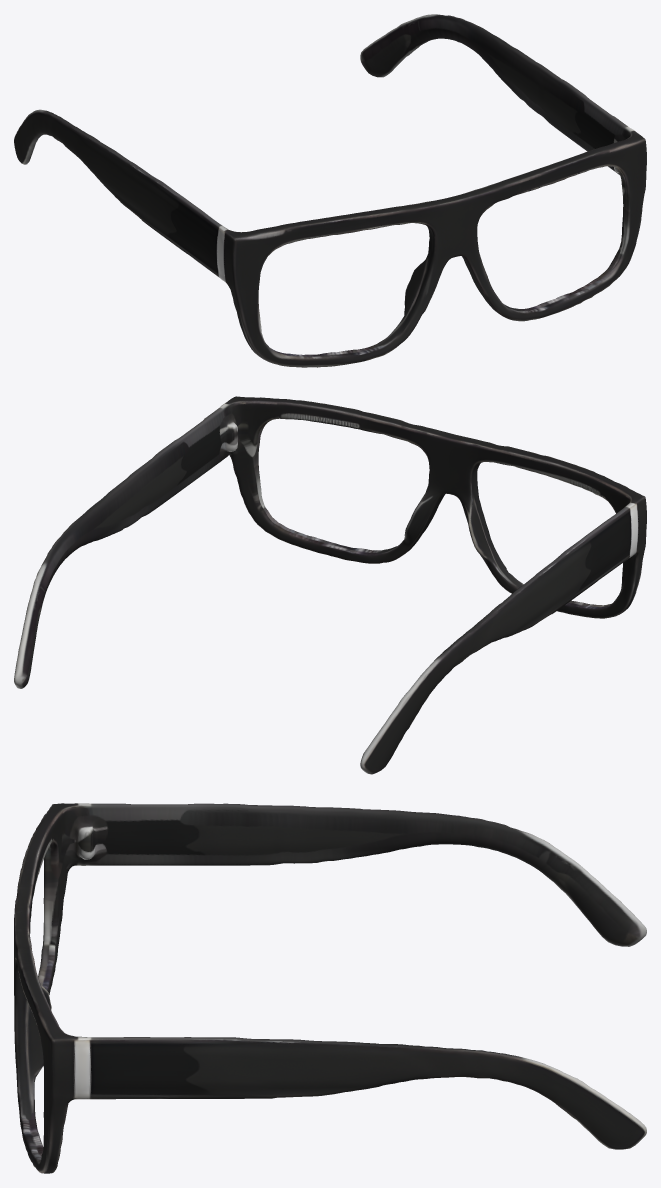
File: black_eyeglasses.glb
The picture shows the model from 3 angles, top to bottom: view 1: azimuth 30°, elevation 25°; view 2: azimuth 150°, elevation 25°; view 3: azimuth 270°, elevation 25°; orthographic projection. The views are drawn at different scales.
Visible parts, largest first — view 1: Object_2; view 2: Object_2; view 3: Object_2.
Boxes of the visible parts, left/top/right/bottom form: Object_2: left=14, top=14, right=646, bottom=367; Object_2: left=14, top=396, right=646, bottom=774; Object_2: left=14, top=803, right=646, bottom=1173.
Bounding box in the file's own units: 1.69 × 0.5758 × 1.9.
Materials: 1 (1 with a texture image).
